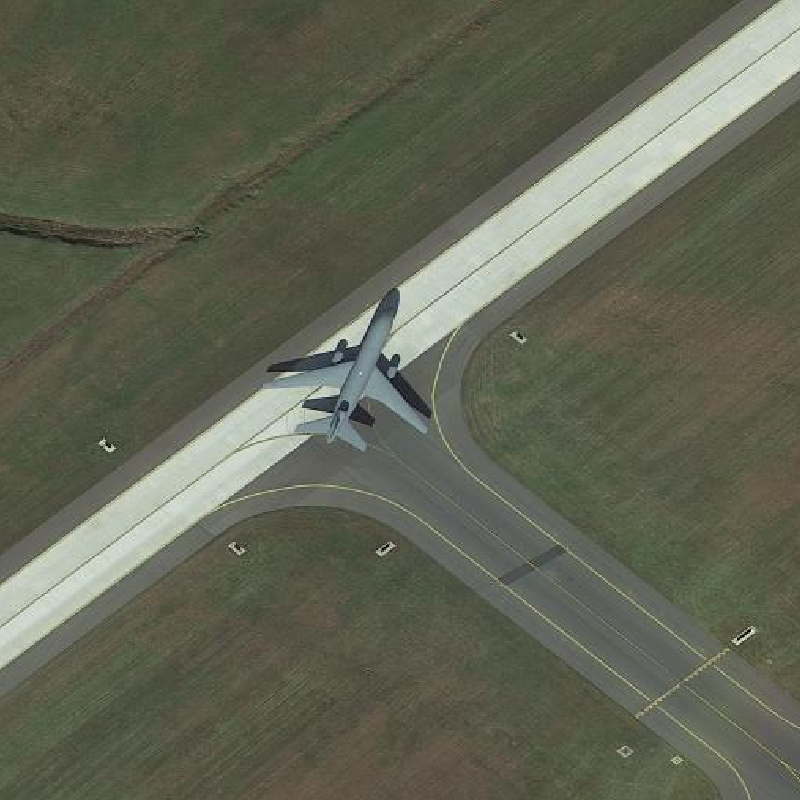A18: (254, 281, 433, 457)
